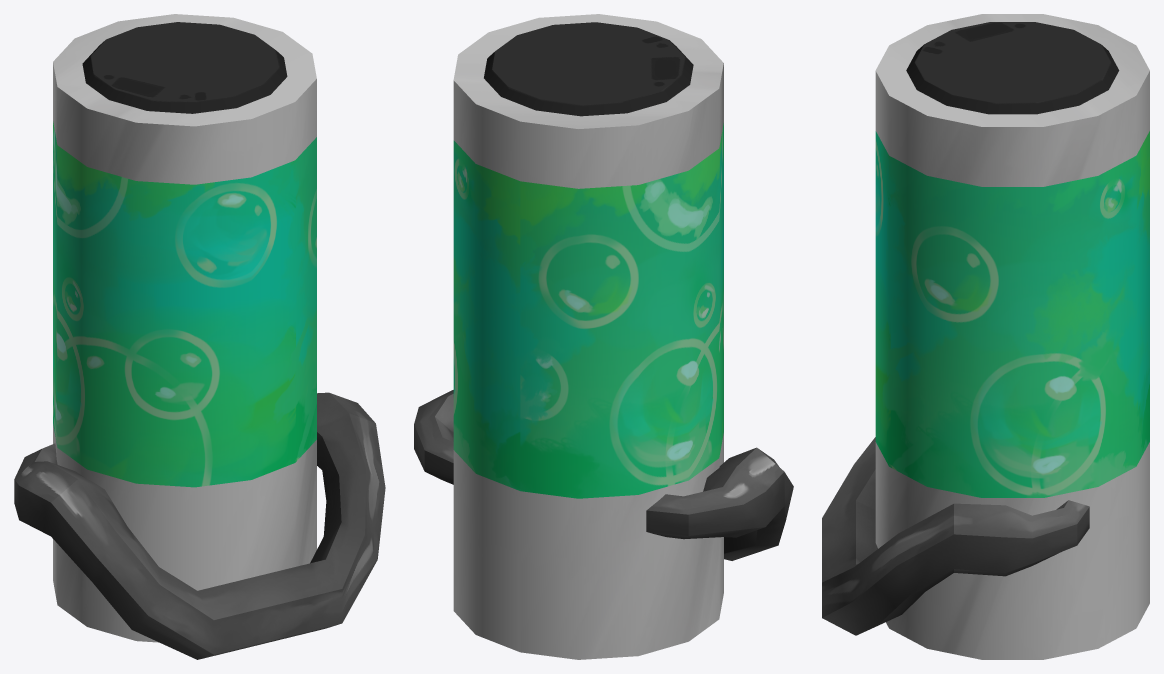
The model's file is Prop_Tank.glb.
The picture shows the model from 3 angles, left to right: view 1: azimuth 30°, elevation 25°; view 2: azimuth 150°, elevation 25°; view 3: azimuth 270°, elevation 25°; orthographic projection. The views are drawn at different scales.
Parts seen in each view (by area): view 1: Prop_Tank; view 2: Prop_Tank; view 3: Prop_Tank.
Boxes of the visible parts, left/top/right/bottom form: Prop_Tank: left=14, top=14, right=385, bottom=659; Prop_Tank: left=414, top=14, right=793, bottom=659; Prop_Tank: left=822, top=14, right=1149, bottom=659.
Size of the model in its own units: 2.05 by 3.05 by 1.67.
1 material, 1 textured.
